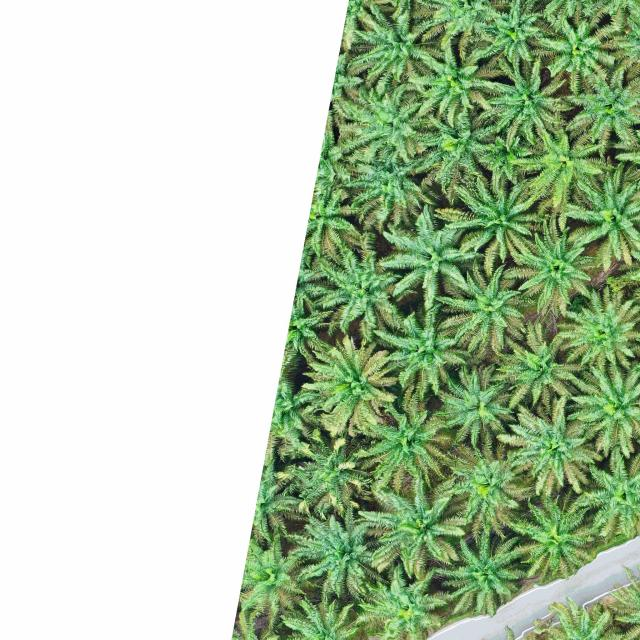Tree: (350, 472, 470, 579), (434, 432, 540, 548), (497, 397, 604, 500), (374, 212, 478, 316), (432, 165, 540, 265), (351, 398, 456, 494), (315, 246, 418, 342), (434, 258, 530, 360), (504, 216, 600, 318), (370, 304, 470, 401), (478, 53, 574, 150), (426, 530, 526, 623), (487, 321, 583, 415), (282, 503, 376, 598), (350, 559, 458, 640), (502, 489, 592, 586), (275, 435, 373, 521), (336, 85, 434, 171), (562, 164, 640, 272), (433, 363, 524, 452), (558, 61, 640, 158), (566, 354, 639, 462), (514, 132, 614, 210), (349, 3, 432, 94), (555, 285, 640, 373), (565, 442, 640, 541), (532, 14, 624, 90), (416, 103, 500, 185), (408, 45, 484, 127), (343, 151, 445, 211), (469, 0, 546, 60)
